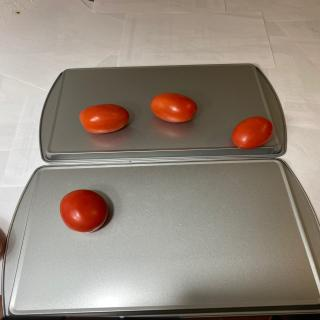Tomato: (60, 189, 108, 233), (79, 103, 129, 134), (150, 92, 198, 122), (232, 116, 274, 150)
